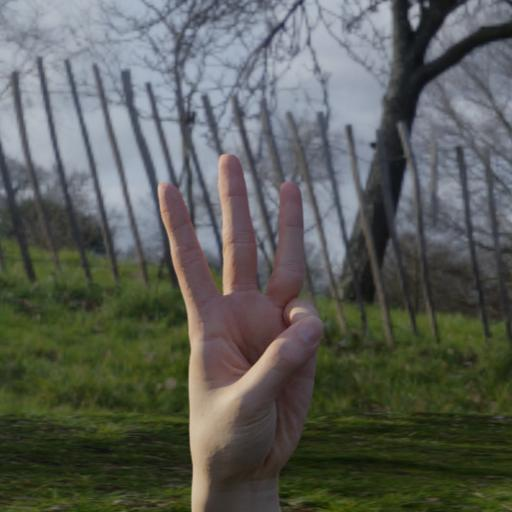W: (143, 139, 343, 512)
